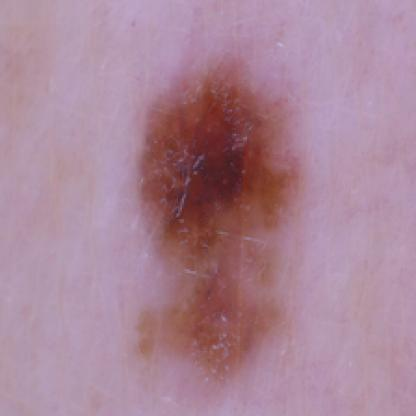Skin_Cancer-Malignant: (134, 52, 308, 386)
